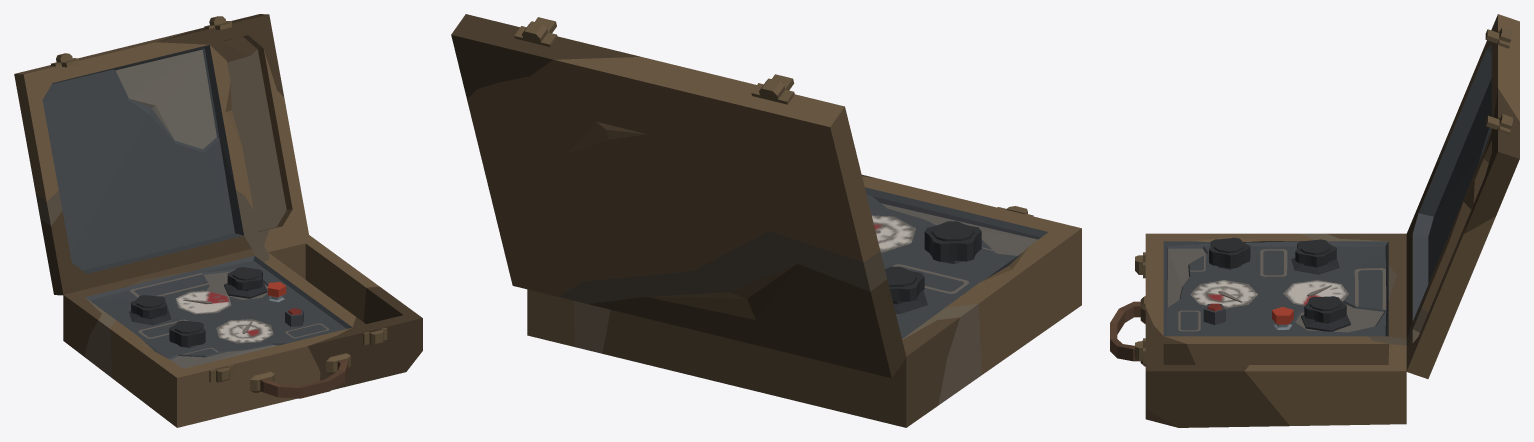
Rendered from SM_Shock_Machine_01.fbx.
3 renders of one model, left to right at view 1: azimuth 30°, elevation 25°; view 2: azimuth 150°, elevation 25°; view 3: azimuth 270°, elevation 25°, orthographic. The views are drawn at different scales.
Visible parts, largest first — view 1: SM_Shock_Machine_01_Lid, SM_Shock_Machine_01; view 2: SM_Shock_Machine_01_Lid, SM_Shock_Machine_01; view 3: SM_Shock_Machine_01, SM_Shock_Machine_01_Lid.
Part boxes in pixels (left/top/right/bottom): SM_Shock_Machine_01_Lid: left=14, top=14, right=308, bottom=295; SM_Shock_Machine_01: left=63, top=235, right=422, bottom=427; SM_Shock_Machine_01_Lid: left=451, top=14, right=906, bottom=378; SM_Shock_Machine_01: left=527, top=174, right=1081, bottom=427; SM_Shock_Machine_01: left=1110, top=233, right=1406, bottom=427; SM_Shock_Machine_01_Lid: left=1406, top=14, right=1519, bottom=378.
Bounding box in the file's own units: 61.54 × 59.62 × 77.43.
